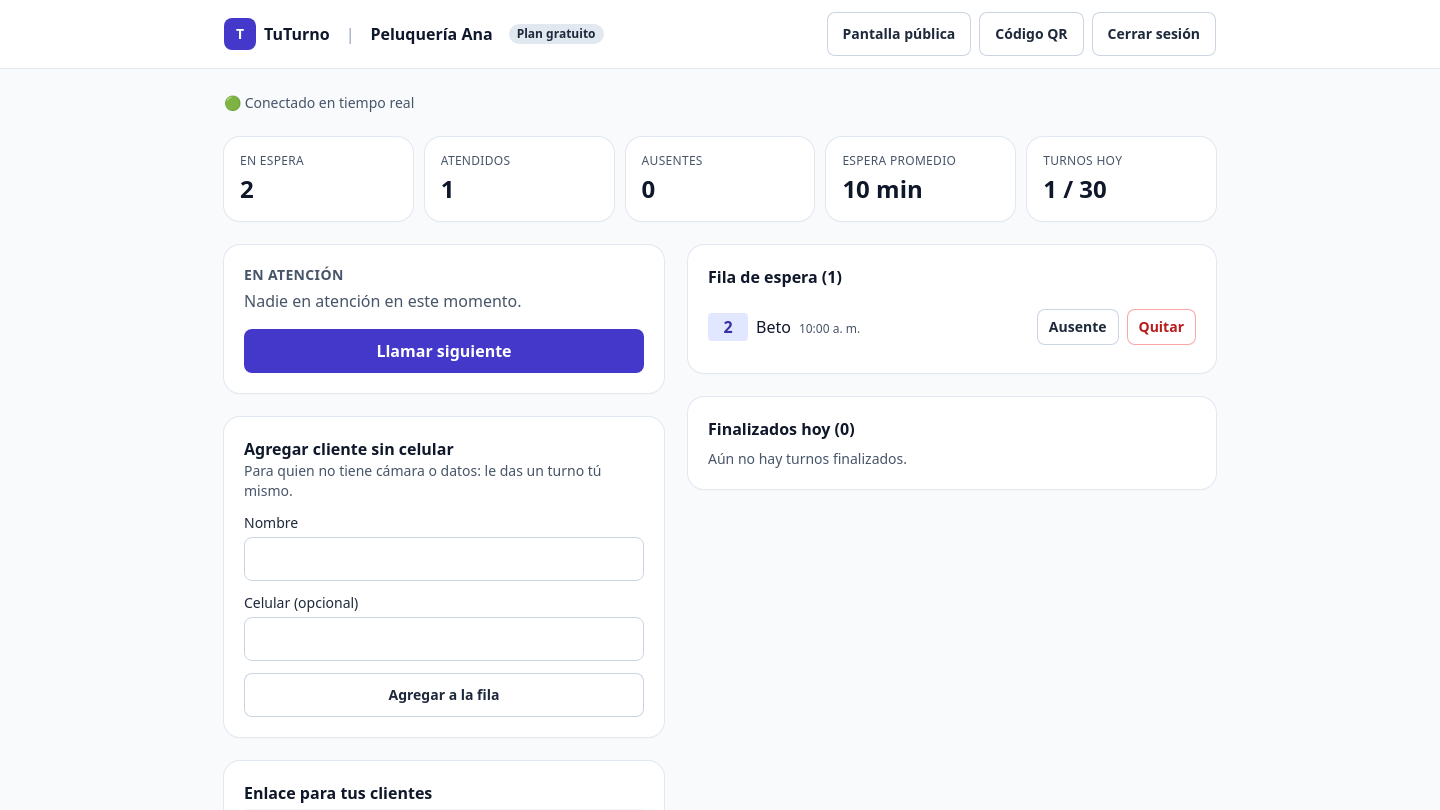
Test: PanelClient · panel del negocio (RF05, RF06, RF09) › traduce los errores de la base de datos a mensajes claros
Click the button "Llamar siguiente" at (444, 351), box [244,329,644,373]
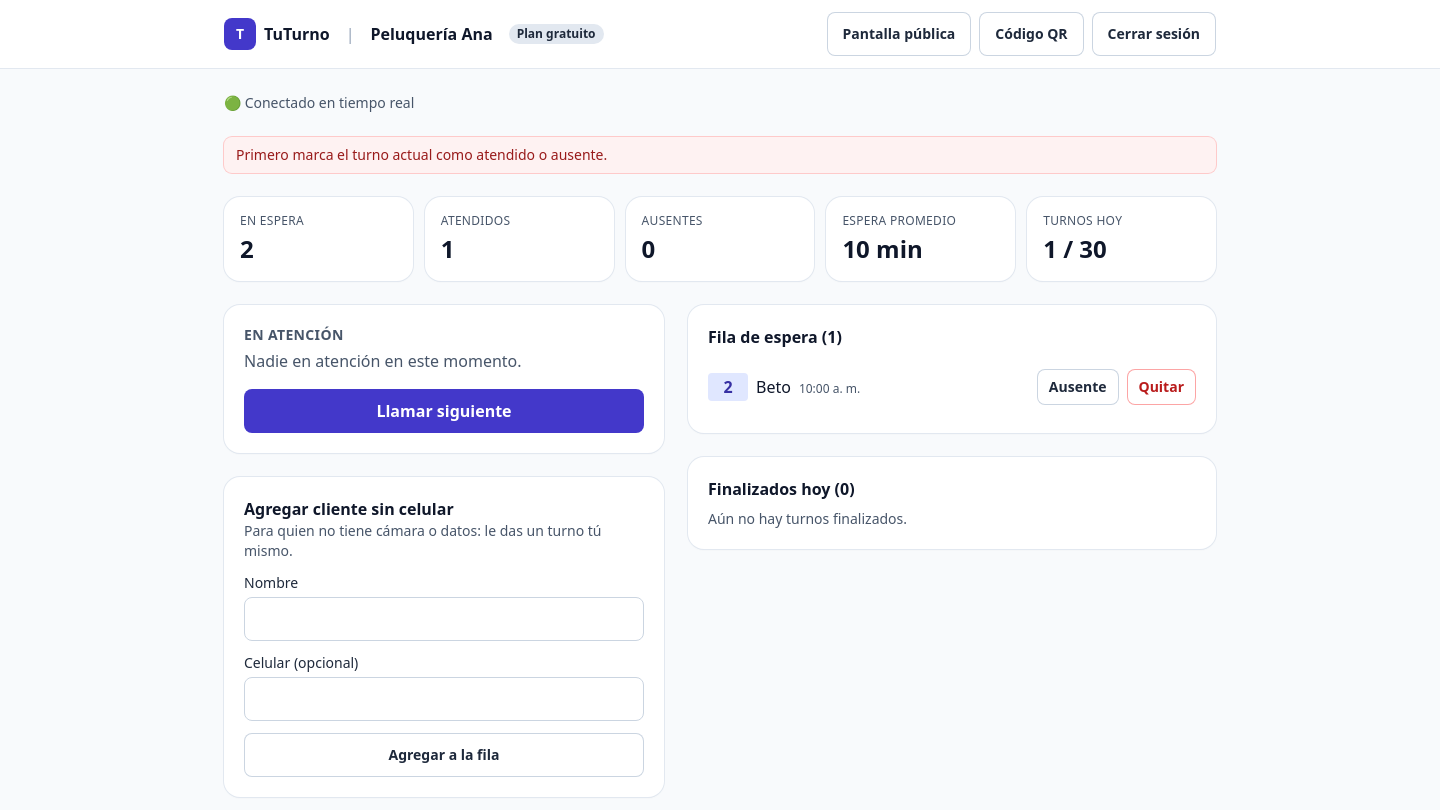
expect the message shows "Primero marca el turno actual": met, box [236,145,607,164]
